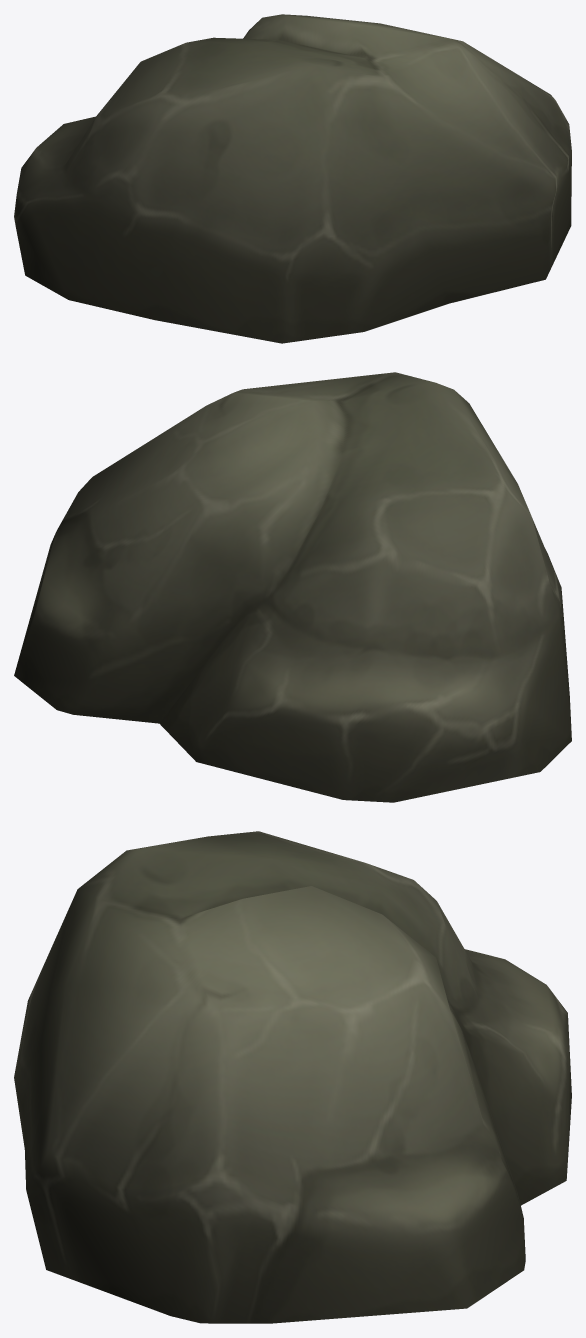
Rendered from Rock_4.FBX.
3 renders of one model, top to bottom at view 1: azimuth 30°, elevation 25°; view 2: azimuth 150°, elevation 25°; view 3: azimuth 270°, elevation 25°, orthographic. The views are drawn at different scales.
Parts seen in each view (by area): view 1: Rock_4; view 2: Rock_4; view 3: Rock_4.
Part boxes in pixels (left/top/right/bottom): Rock_4: left=14, top=14, right=571, bottom=343; Rock_4: left=14, top=372, right=571, bottom=802; Rock_4: left=14, top=831, right=571, bottom=1323.
Bounding box in the file's own units: 115 × 53.56 × 90.23.
